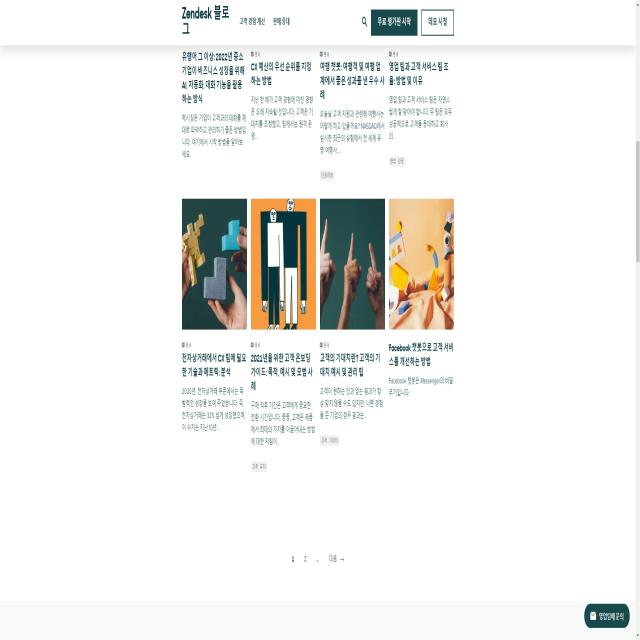menu-bar: (367, 6, 458, 42)
tab-bar: (239, 14, 293, 31)
